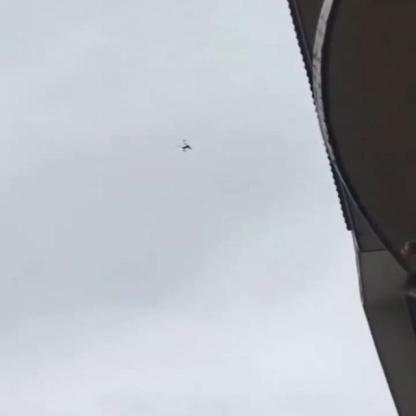drone: (180, 139, 192, 151)
